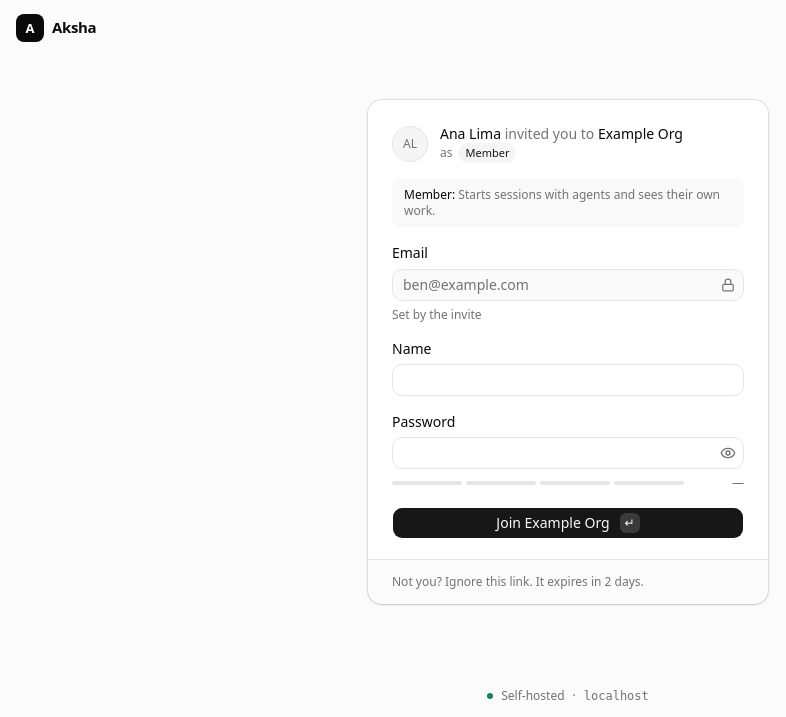
Test: AcceptInvite › checks name and password before sending
Type "short" into the password field labelled "Password" at point(554, 453), box [393, 437, 716, 469]
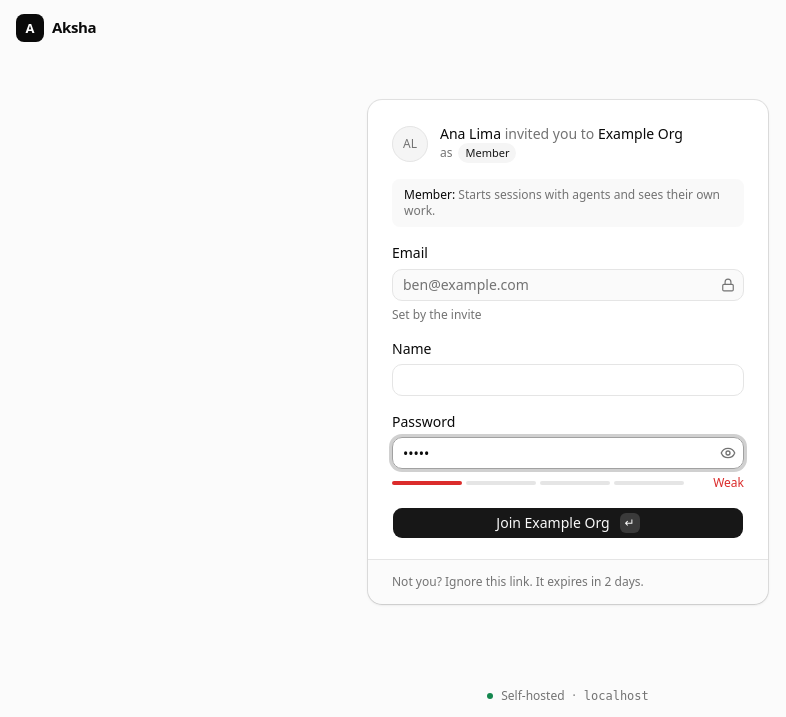
Click the button "Join Example Org ↵" at point(568, 523), box [392, 507, 744, 539]
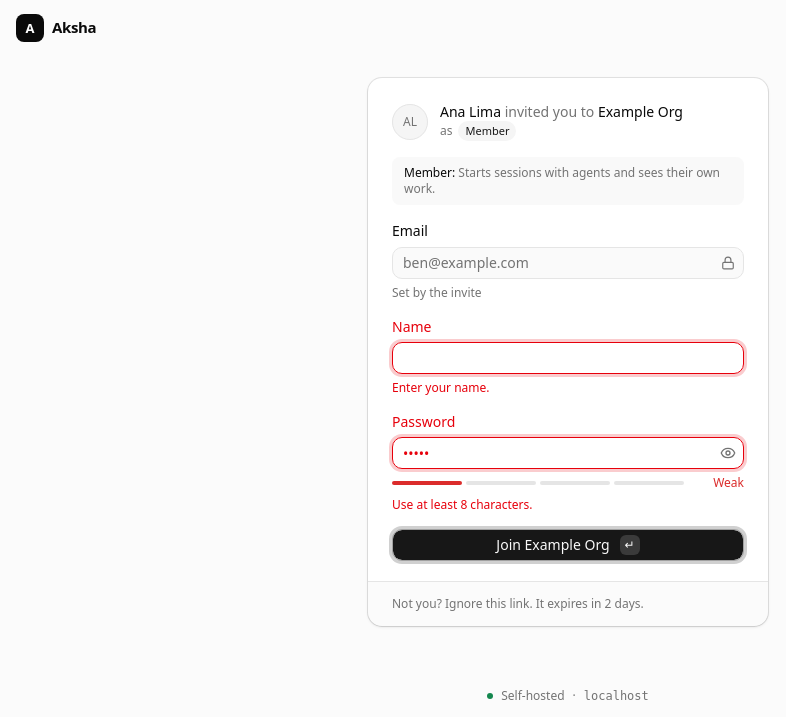
expect the text "Enter your name." is shown: met, box [392, 379, 490, 396]
expect the text "Use at least 8 characters." is shown: met, box [392, 496, 532, 513]
